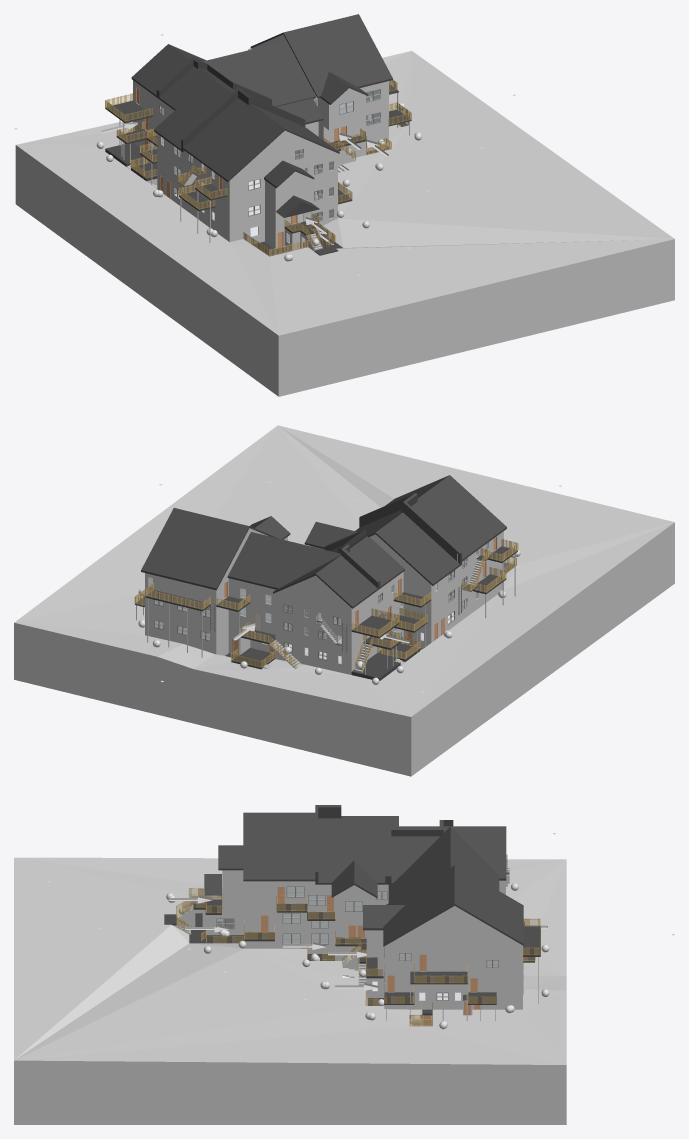
Rendered from house.glb.
3 views of the same model, one above another, from view 1: azimuth 30°, elevation 25°; view 2: azimuth 150°, elevation 25°; view 3: azimuth 270°, elevation 25° (orthographic). The views are drawn at different scales.
Parts seen in each view (by area): view 1: Fake; view 2: Fake; view 3: Fake.
Boxes of the visible parts, box(x1,y1,x2,y2) form: Fake: box(15, 14, 674, 396); Fake: box(14, 425, 674, 776); Fake: box(14, 805, 566, 1124).
Bounding box in the file's own units: 65.27 × 25.9 × 88.27.
